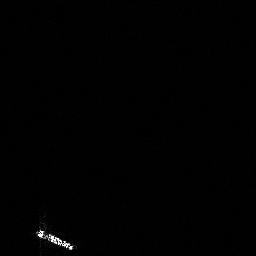ship: (32, 225, 77, 253)
